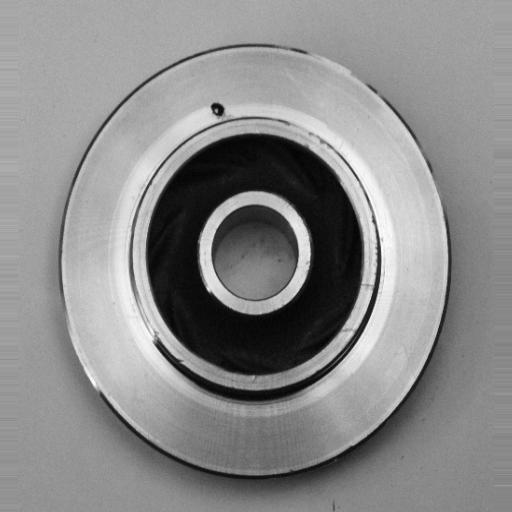pit: (205, 94, 229, 126)
scratch: (124, 276, 169, 350), (285, 114, 344, 151)
unpolished_casting: (60, 44, 454, 481)
